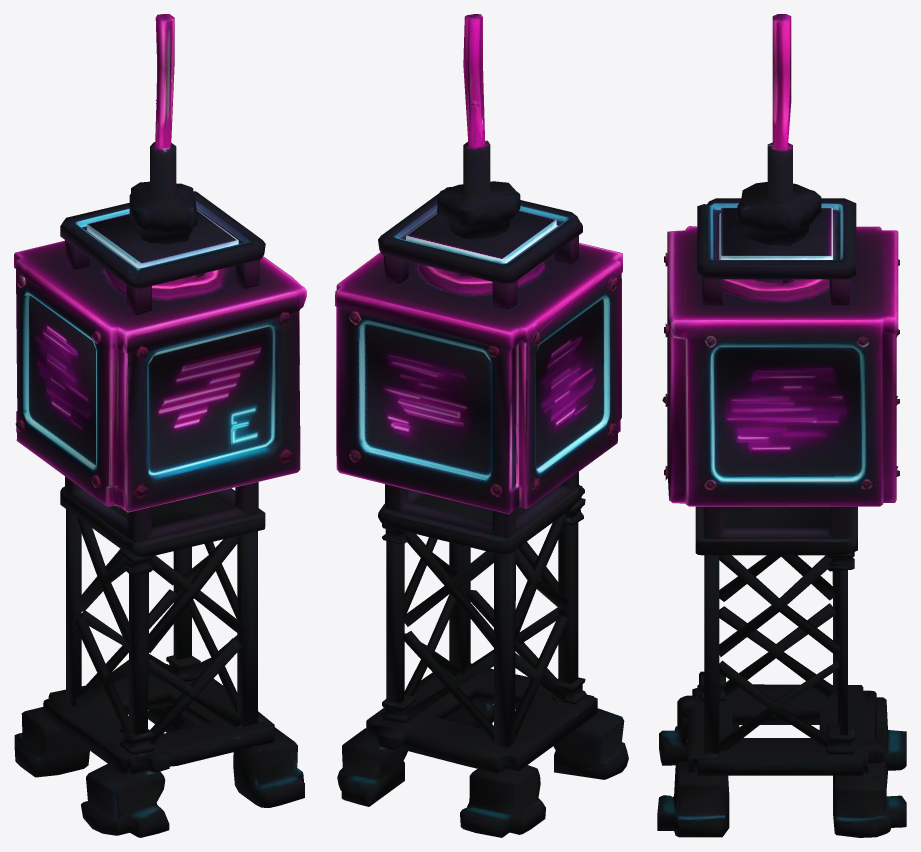
The model's file is lm_neon.glb.
The picture shows the model from 3 angles, left to right: view 1: azimuth 30°, elevation 25°; view 2: azimuth 150°, elevation 25°; view 3: azimuth 270°, elevation 25°; orthographic projection. The views are drawn at different scales.
Parts seen in each view (by area): view 1: Prop; view 2: Prop; view 3: Prop.
Boxes of the visible parts, x1,y1,x2,y2 form: Prop: (14,14,306,837); Prop: (335,14,628,837); Prop: (657,14,906,837).
Bounding box in the file's own units: 0.2793 × 0.998 × 0.291.
Materials: 1 (1 with a texture image).
